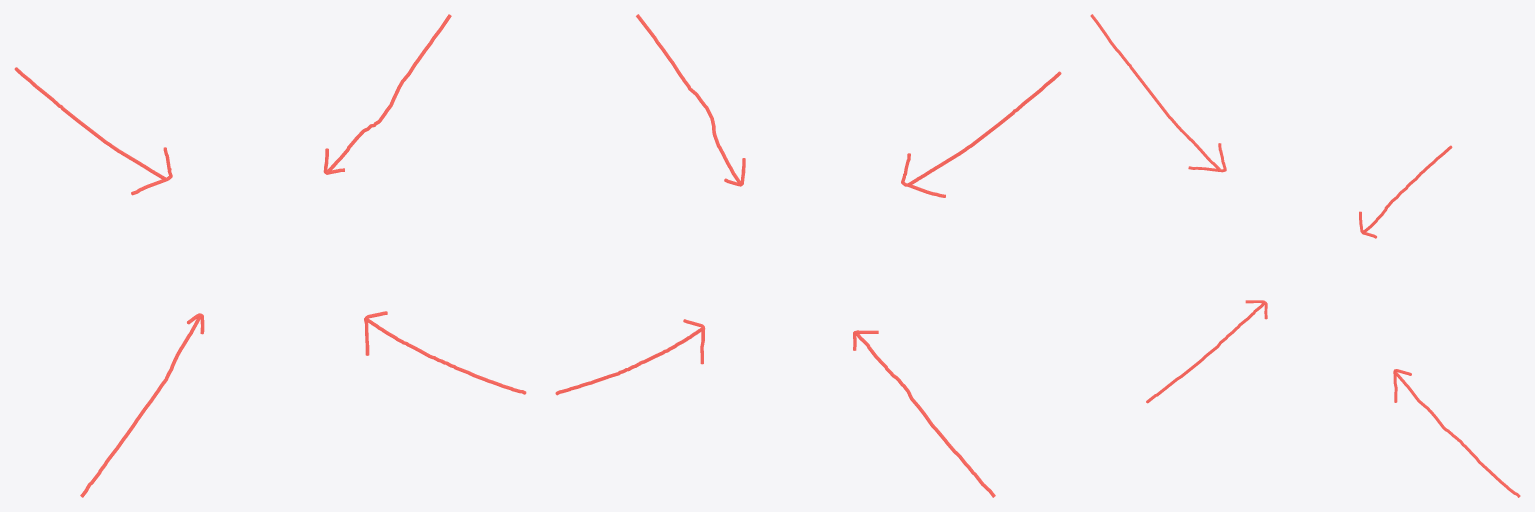
Rendered from sigmas.glb.
The picture shows the model from 3 angles, left to right: view 1: azimuth 30°, elevation 25°; view 2: azimuth 150°, elevation 25°; view 3: azimuth 330°, elevation 25°; orthographic projection. The views are drawn at different scales.
Parts seen in each view (by area): view 1: sigmas; view 2: sigmas; view 3: sigmas.
Boxes of the visible parts, x1,y1,x2,y2 form: sigmas: (14,14,526,497); sigmas: (555,14,1061,497); sigmas: (1090,14,1520,497).
Size of the model in its own units: 0.0406 by 0.0342 by 0.00257.
